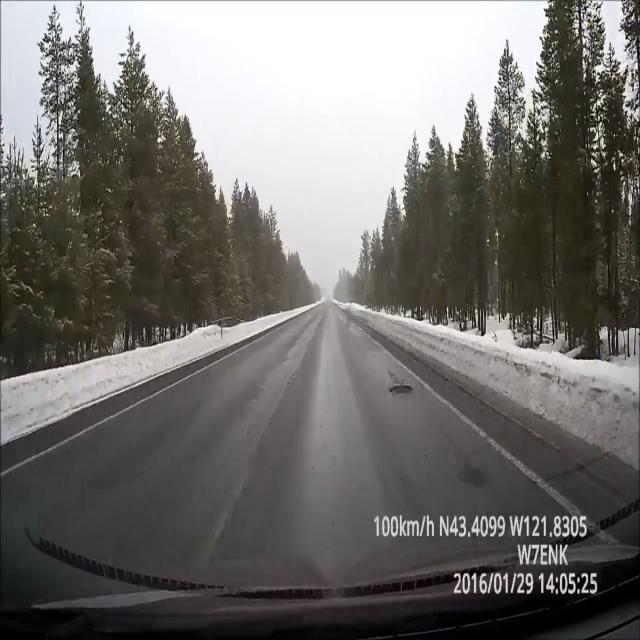Buraco: (387, 384, 415, 395)
